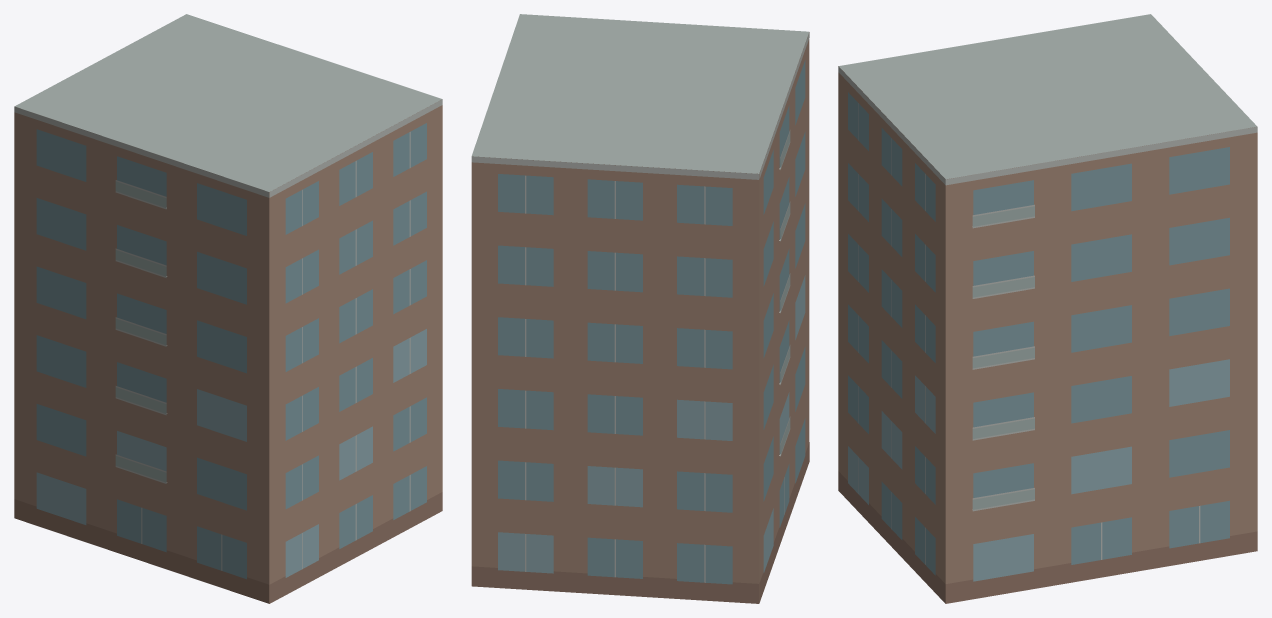
The model's file is survey-upis-32581136.glb.
3 views of the same model, side by side, from view 1: azimuth 30°, elevation 25°; view 2: azimuth 150°, elevation 25°; view 3: azimuth 270°, elevation 25° (orthographic). The views are drawn at different scales.
Parts seen in each view (by area): view 1: survey-upis-32581136.tmp; view 2: survey-upis-32581136.tmp; view 3: survey-upis-32581136.tmp.
Part boxes in pixels (left/top/right/bottom): survey-upis-32581136.tmp: left=14, top=14, right=442, bottom=603; survey-upis-32581136.tmp: left=471, top=14, right=809, bottom=603; survey-upis-32581136.tmp: left=838, top=14, right=1257, bottom=603.
Size of the model in its own units: 14.46 by 17.3 by 15.49.
